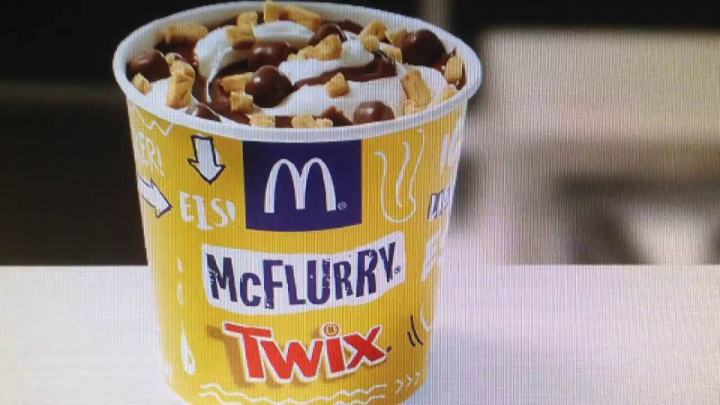mcdonalds: (262, 152, 347, 216)
